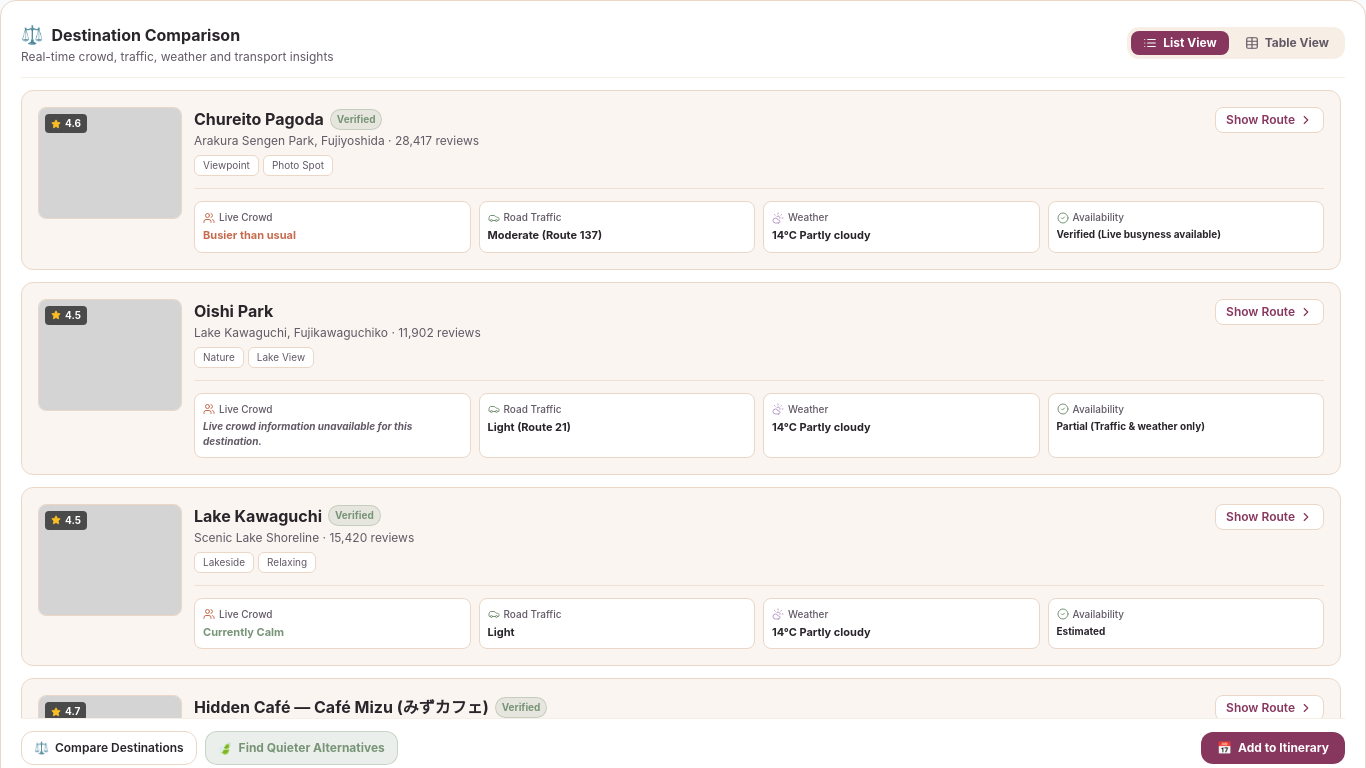
FujiNova 12.0 Travel Companion Components › renders DestinationComparisonTable in list and table modes
expect the heading "Destination Comparison" is shown: met, box x1=52 y1=23 x2=240 y2=47
expect the heading "Chureito Pagoda" is shown: met, box x1=194 y1=107 x2=324 y2=131
Switch to Table View
Click the button "Table View".
click(1287, 43)  # box x1=1233 y1=31 x2=1341 y2=55
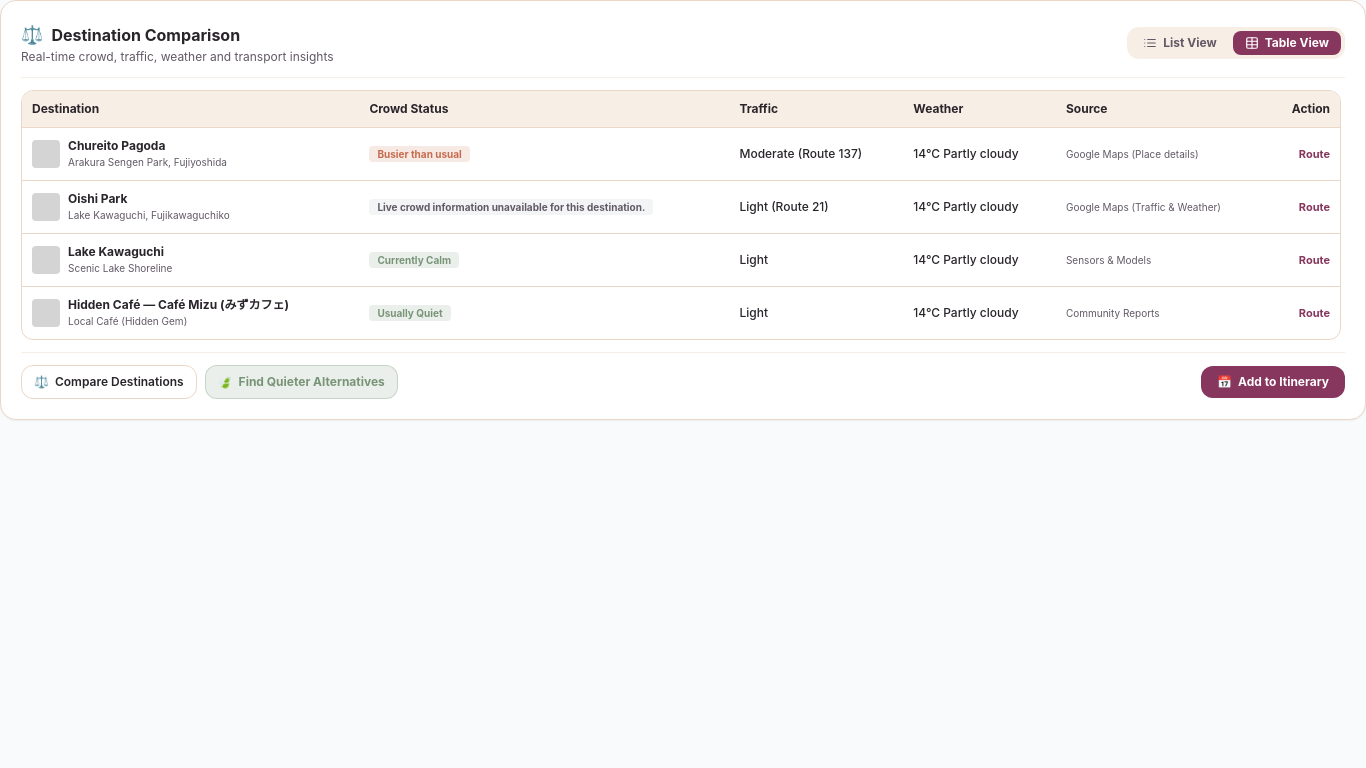
expect the text "Real-time crowd, traffic, weather and transport insights" is shown: met, box x1=21 y1=49 x2=334 y2=65
expect the column heading "Crowd Status" is shown: met, box x1=359 y1=91 x2=730 y2=128
